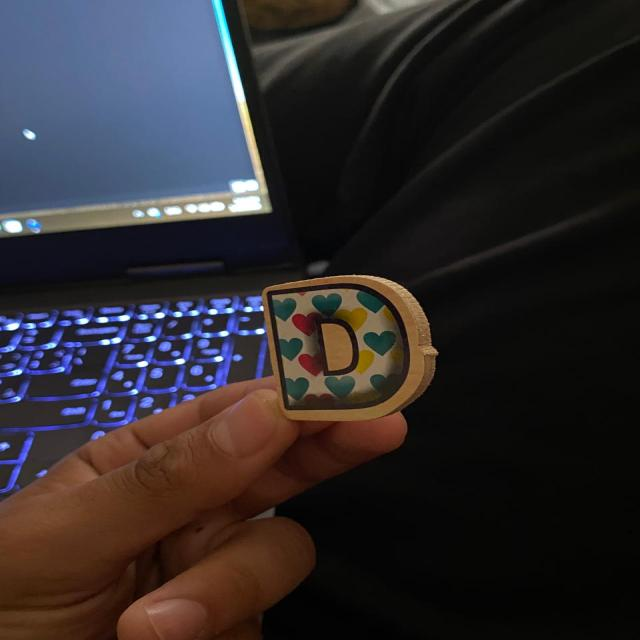D: (263, 276, 436, 423)
